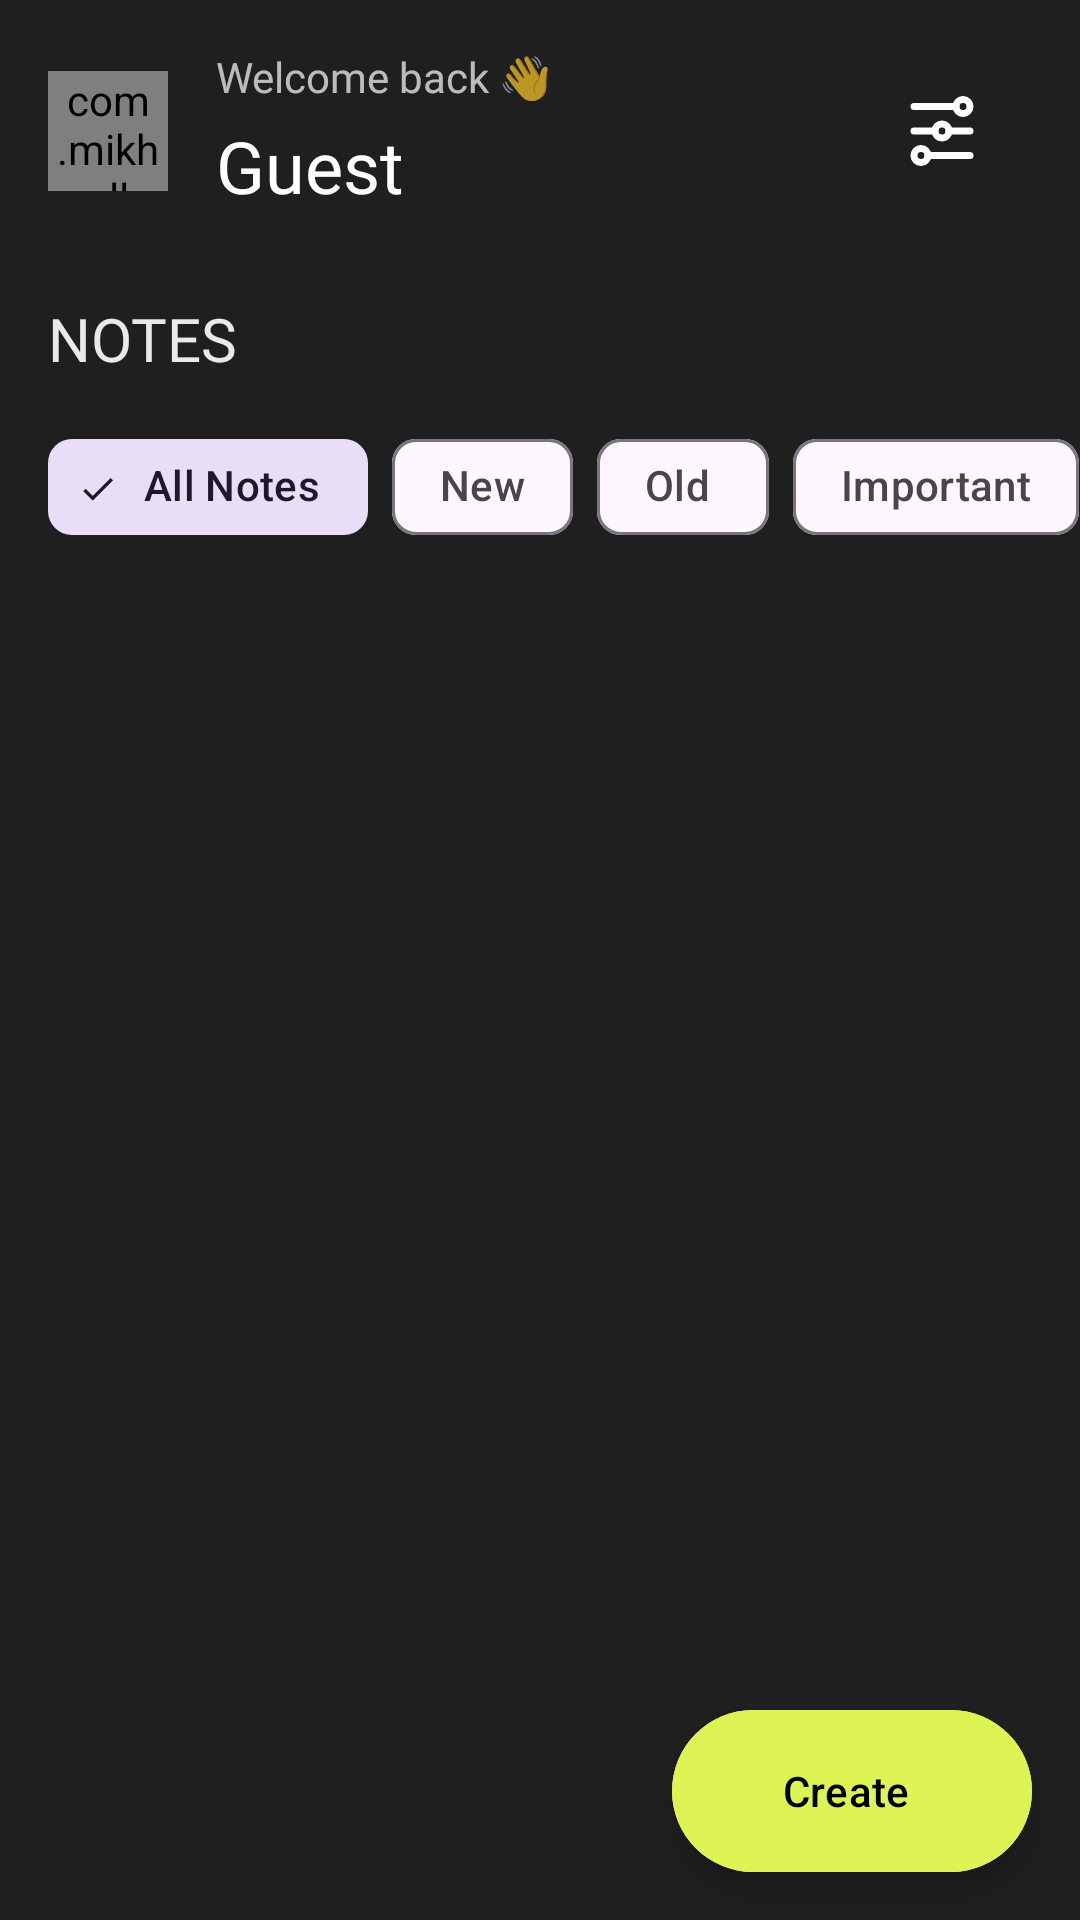

Point at icon controls on the screen. Image size 1080x1920, points as [x,y].
filter: [942,131]
